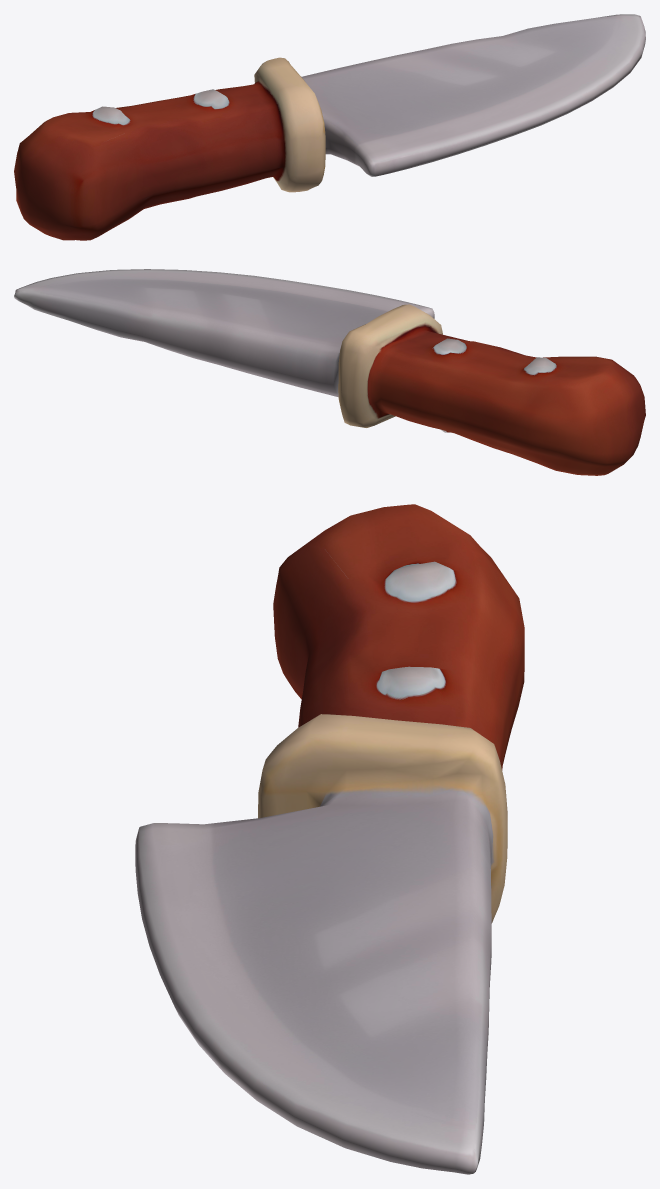
File: Faca.fbx
3 renders of one model, top to bottom at view 1: azimuth 30°, elevation 25°; view 2: azimuth 150°, elevation 25°; view 3: azimuth 270°, elevation 25°, orthographic. The views are drawn at different scales.
Visible parts, largest first — view 1: faca; view 2: faca; view 3: faca.
Part boxes in pixels (box(x1,y1,x2,y2)): faca: box(14, 14, 645, 240); faca: box(14, 269, 645, 475); faca: box(135, 504, 524, 1174).
Size of the model in its own units: 73.48 by 11.81 by 20.5.
